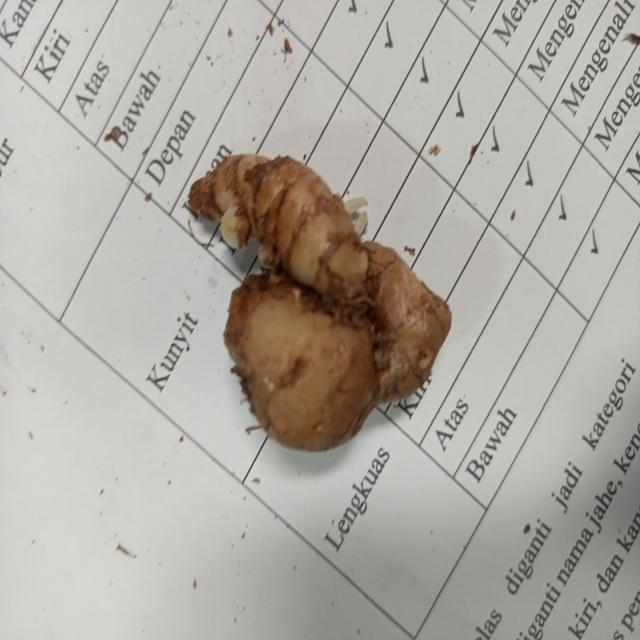ginger: (203, 157, 441, 436)
